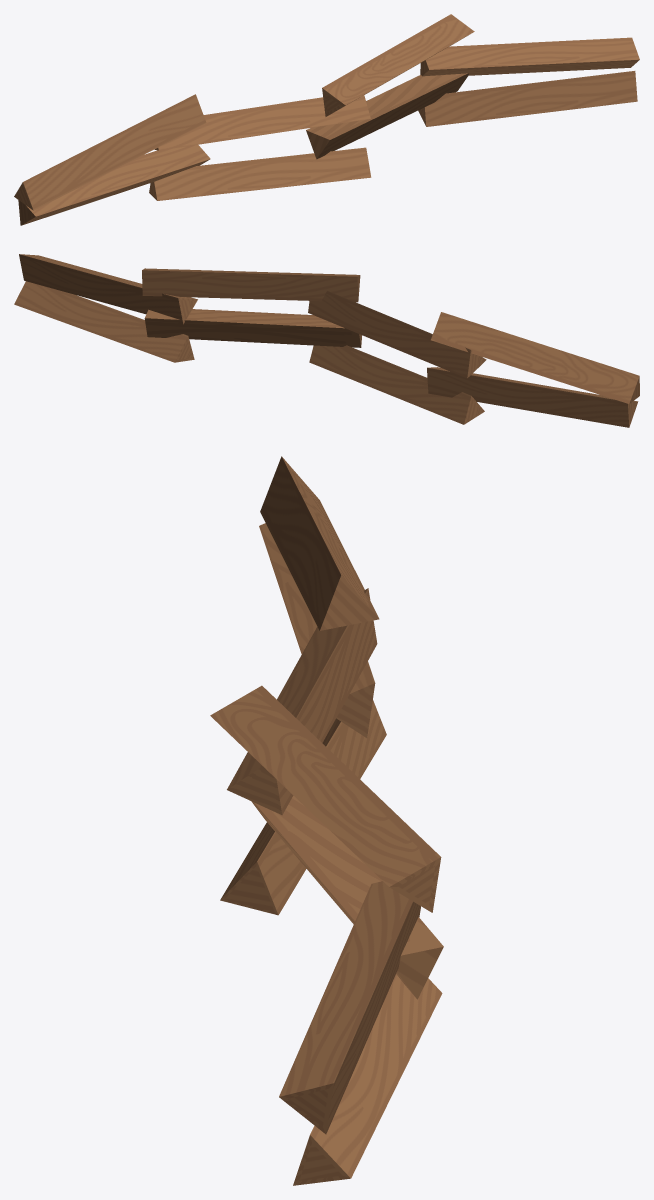
Rendered from fenceA.glb.
3 renders of one model, top to bottom at view 1: azimuth 30°, elevation 25°; view 2: azimuth 150°, elevation 25°; view 3: azimuth 270°, elevation 25°, orthographic. The views are drawn at different scales.
Visible parts, largest first — view 1: Cylinder.003; view 2: Cylinder.003; view 3: Cylinder.003.
Boxes of the visible parts, <box> form: Cylinder.003: <box>14,14,639,225</box>; Cylinder.003: <box>14,254,639,427</box>; Cylinder.003: <box>210,456,443,1185</box>.
Size of the model in its own units: 13.92 by 2.2 by 2.32.
1 material, 1 textured.
